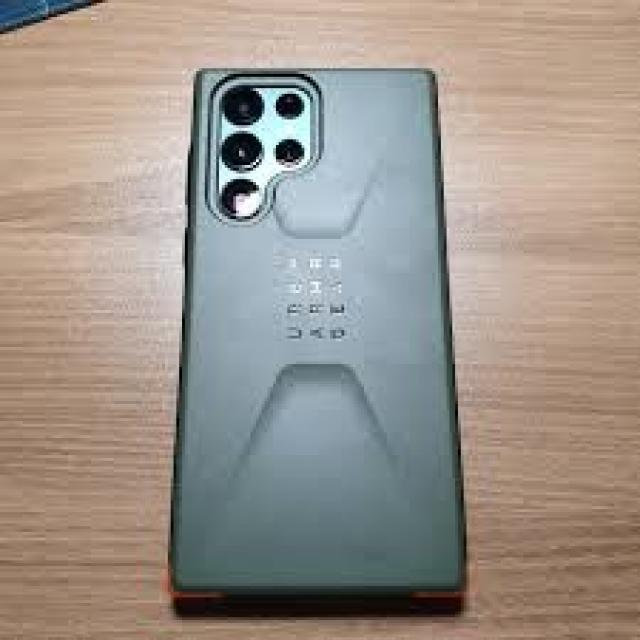phone: (166, 62, 474, 610)
